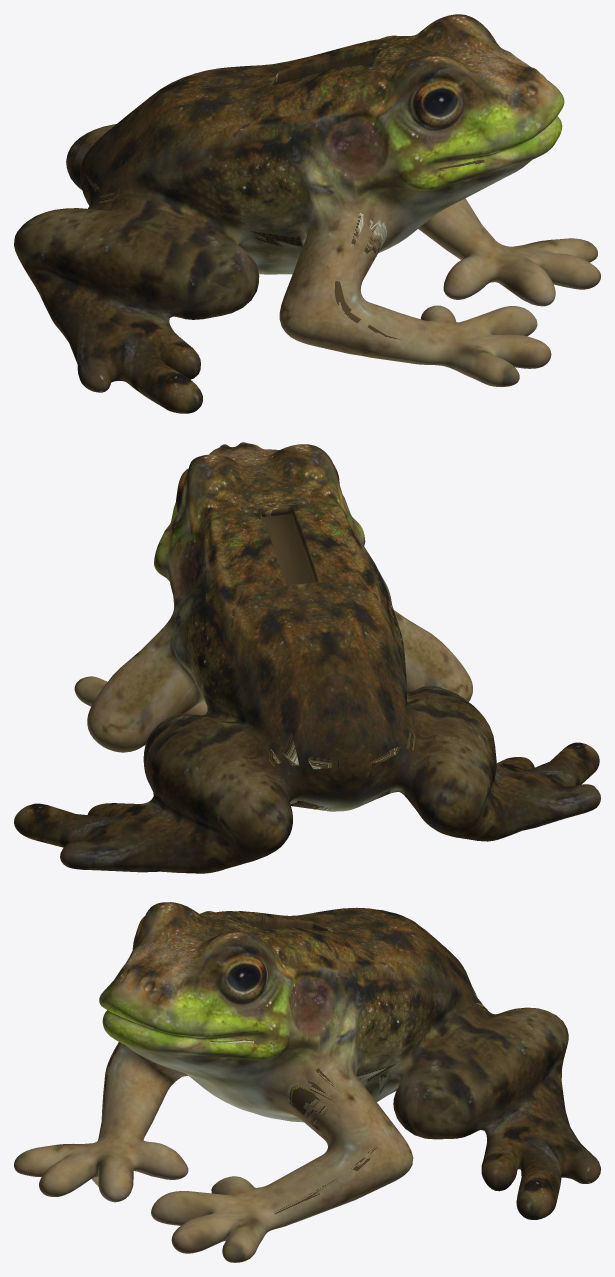
Rendered from frog.fbx.
The picture shows the model from 3 angles, top to bottom: view 1: azimuth 30°, elevation 25°; view 2: azimuth 150°, elevation 25°; view 3: azimuth 270°, elevation 25°; orthographic projection. The views are drawn at different scales.
Parts seen in each view (by area): view 1: 20436_Frog_v1 textured; view 2: 20436_Frog_v1 textured; view 3: 20436_Frog_v1 textured.
Boxes of the visible parts, bbox=[...] form: 20436_Frog_v1 textured: bbox=[14, 14, 600, 413]; 20436_Frog_v1 textured: bbox=[14, 442, 600, 873]; 20436_Frog_v1 textured: bbox=[14, 902, 600, 1262].
Size of the model in its own units: 36.03 by 18.32 by 36.02.
